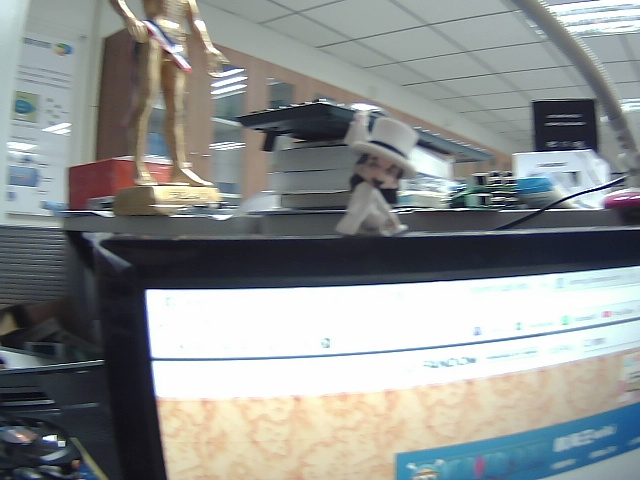lucci: (333, 102, 424, 247)
